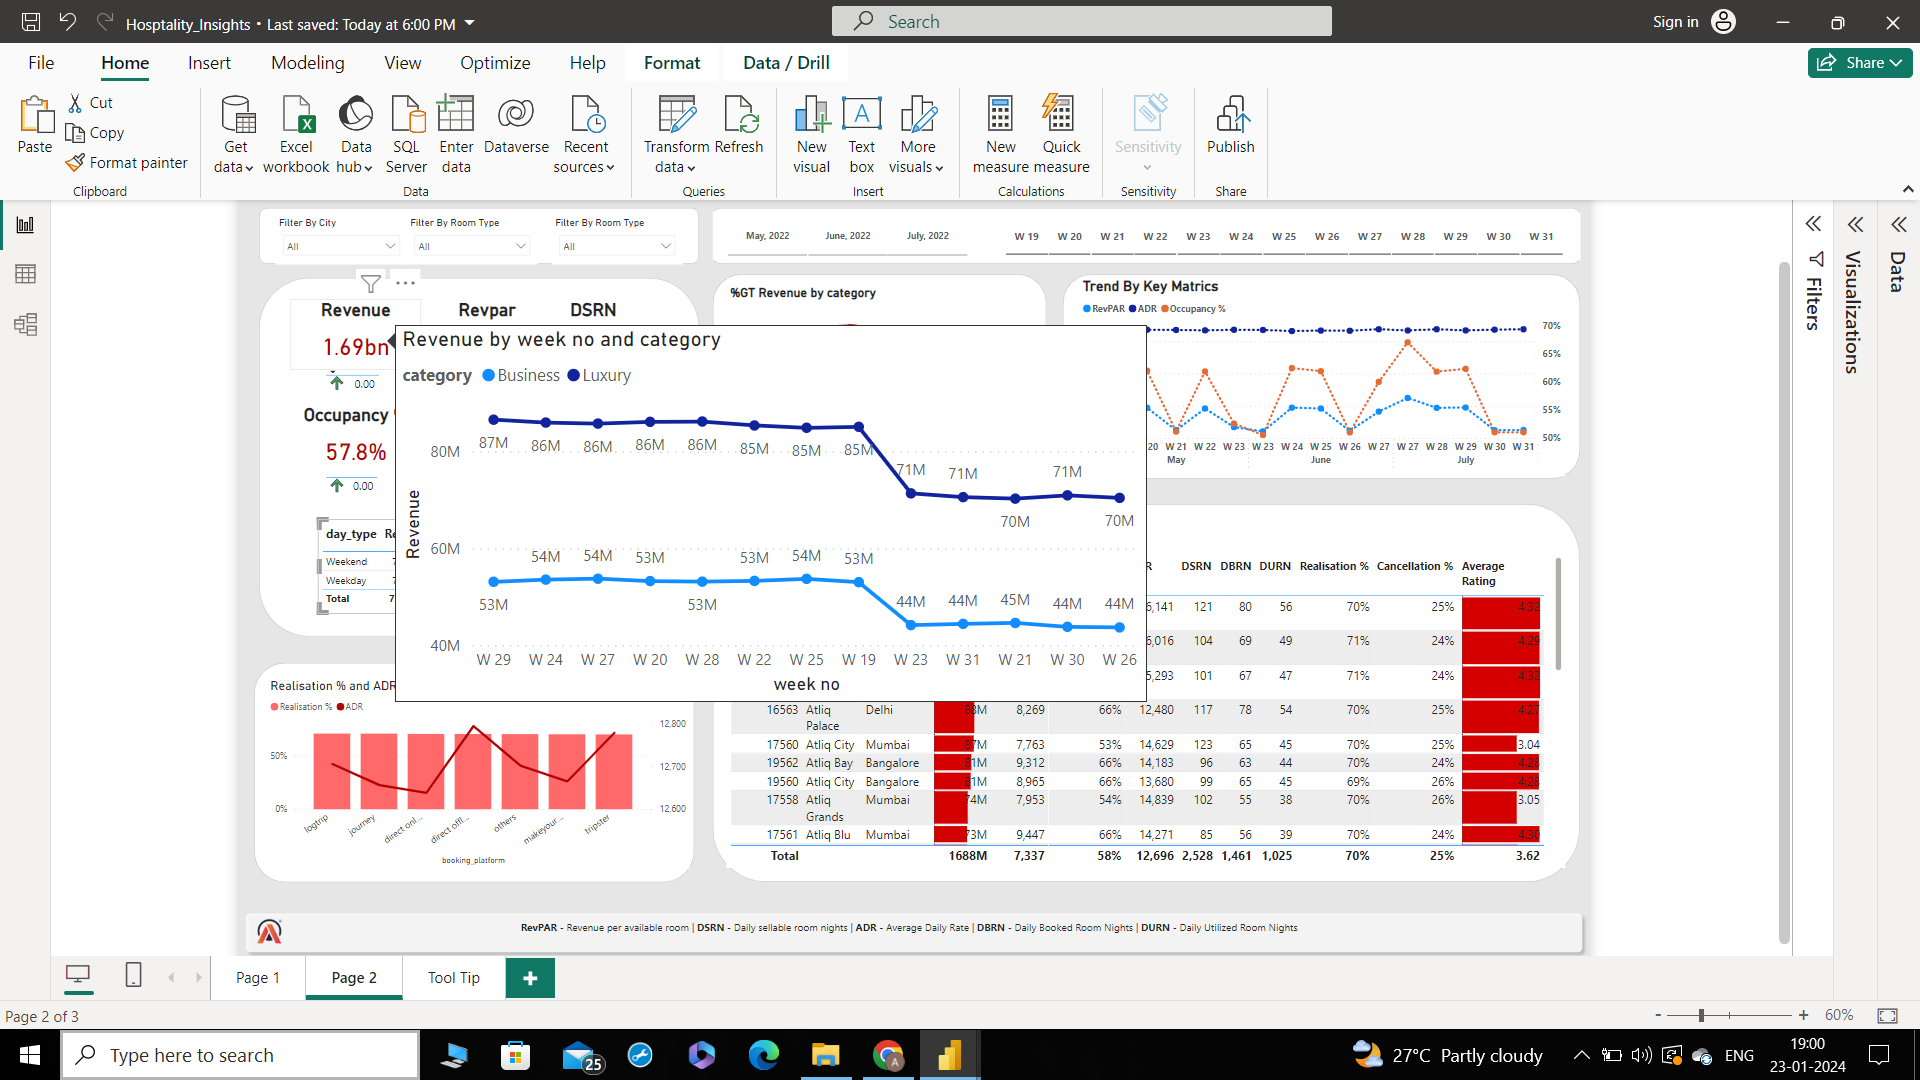

This screenshot's page, from the dashboard's own definition file:
{"tool":"powerbi","page":{"name":"Page 2","canvas":[1800,1100],"ordinal":1},"visuals":[{"type":"shape","box":[0,1016,1800,70],"z":0},{"type":"shape","box":[20,691.4,587.1,292.9],"z":1000},{"type":"shape","box":[632,480,1156,504],"z":2000},{"type":"shape","box":[1098.3,173.3,690,273.3],"z":3000},{"type":"shape","box":[631.7,173.3,445,273.3],"z":4000},{"type":"shape","box":[631.7,85,1156.7,75],"z":5000},{"type":"shape","box":[27.1,178.6,587.1,478.6],"z":6000},{"type":"shape","box":[26.7,85,586.7,75],"z":7000},{"type":"tableEx","title":"Property By Key Metrics","fields":{"Values":["dim_hotels.property_id","dim_hotels.property_name","dim_hotels.city","key_measures (2).Revenue","key_measures (2).RevPAR","key_measures (2).Occupancy %","key_measures (2).ADR","key_measures (2).DSRN","key_measures (2).DBRN","key_measures (2).DURN","key_measures (2).Realisation %","key_measures (2).Cancellation %"]},"box":[650,515.7,1118.6,450],"z":8000},{"type":"slicer","title":"Filter By City","fields":{"Values":["dim_hotels.city"]},"box":[48,96,176,64],"z":9000},{"type":"slicer","title":"Filter By Room Type","fields":{"Values":["dim_rooms.room_class"]},"box":[417,96,175,64],"z":10000},{"type":"slicer","fields":{"Values":["dim_date.mmm yy"]},"box":[631.7,90,358.3,65],"z":11000},{"type":"slicer","fields":{"Values":["dim_date.week no"]},"box":[996.7,91.7,791.7,63.3],"z":12000},{"type":"tableEx","fields":{"Values":["key_measures (2).\"Revenue WoW change %"]},"box":[110.8,281.5,88.5,57.7],"z":13000},{"type":"donutChart","fields":{"Category":["dim_hotels.category"],"Y":["key_measures (2).Revenue"]},"box":[650,188.3,405,241.7],"z":14000},{"type":"lineStackedColumnComboChart","fields":{"Category":["fact_bookings.booking_platform"],"Y":["key_measures (2).Realisation %"],"Y2":["key_measures (2).ADR"]},"box":[37.1,711.4,564.3,254.3],"z":15000},{"type":"lineChart","title":"Trend By Key Matrics","fields":{"Category":["dim_date.mmm yy.Variation.Date Hierarchy.Month","dim_date.week no"],"Y2":["key_measures (2).Occupancy %"],"Y":["key_measures (2).RevPAR","key_measures (2).ADR"]},"box":[1120,178.3,648.3,265],"z":16000},{"type":"tableEx","fields":{"Values":["dim_date.day_type","key_measures (2).RevPAR","key_measures (2).Occupancy %","key_measures (2).ADR","key_measures (2).Realisation %"]},"box":[105,500,455,126.7],"z":17000},{"type":"slicer","title":"Filter By Room Type","fields":{"Values":["dim_rooms.room_class"]},"box":[224,96,175,64],"z":18000},{"type":"image","box":[0,1028,81.3,42.7],"z":20000},{"type":"textbox","box":[345,1029.6,1093.6,39],"z":21000},{"type":"tableEx","fields":{"Values":["key_measures (2).\"DSRN WoW change %"]},"box":[426.9,281.5,88.5,56.2],"z":22000},{"type":"tableEx","fields":{"Values":["key_measures (2).\"Revpar WoW change %"]},"box":[287.7,281.5,89.2,55.4],"z":23000},{"type":"card","title":"DSRN","fields":{"Values":["key_measures (2).DSRN"]},"box":[384.3,206.8,175,95],"z":24000},{"type":"card","title":"Revpar","fields":{"Values":["key_measures (2).RevPAR"]},"box":[242.7,206.5,175,95],"z":25000},{"type":"card","title":"Revenue","fields":{"Values":["key_measures (2).Revenue"]},"box":[67.7,206.5,175,95],"z":26000},{"type":"tableEx","fields":{"Values":["key_measures (2).\"Occupancy WoW change %"]},"box":[110.8,417.7,88.5,57.7],"z":27000},{"type":"card","title":"Occupancy %","fields":{"Values":["key_measures (2).Occupancy %"]},"box":[67.7,347.5,175,95],"z":28000},{"type":"tableEx","fields":{"Values":["key_measures (2).\"ADR WoW change %"]},"box":[287.7,417.7,88.5,57.7],"z":29000},{"type":"tableEx","fields":{"Values":["key_measures (2).\"Revenue WoW change %"]},"box":[460,418.5,88.5,57.7],"z":30000},{"type":"card","title":"ADR","fields":{"Values":["key_measures (2).ADR"]},"box":[242.7,348.5,175,95],"z":31000},{"type":"card","title":"Realisation","fields":{"Values":["key_measures (2).Realisation %"]},"box":[417.7,347.5,175,95],"z":31500}]}

Visuals, with their boxes on the page's 1800x1100 design canvas (x1, y1, x2, y2). These are canvas units, not pixel positions in the 1920x1080 screenshot, which may show the page scaled, cropped or inside an application window:
shape: x1=0, y1=1016, x2=1800, y2=1086
shape: x1=20, y1=691, x2=607, y2=984
shape: x1=632, y1=480, x2=1788, y2=984
shape: x1=1098, y1=173, x2=1788, y2=447
shape: x1=632, y1=173, x2=1077, y2=447
shape: x1=632, y1=85, x2=1788, y2=160
shape: x1=27, y1=179, x2=614, y2=657
shape: x1=27, y1=85, x2=613, y2=160
"Property By Key Metrics" tableEx: x1=650, y1=516, x2=1769, y2=966
"Filter By City" slicer: x1=48, y1=96, x2=224, y2=160
"Filter By Room Type" slicer: x1=417, y1=96, x2=592, y2=160
slicer - dim_date.mmm yy: x1=632, y1=90, x2=990, y2=155
slicer - dim_date.week no: x1=997, y1=92, x2=1788, y2=155
tableEx - key_measures (2)."Revenue WoW change %: x1=111, y1=282, x2=199, y2=339
donutChart - dim_hotels.category x key_measures (2).Revenue: x1=650, y1=188, x2=1055, y2=430
lineStackedColumnComboChart - fact_bookings.booking_platform x key_measures (2).Realisation %: x1=37, y1=711, x2=601, y2=966
"Trend By Key Matrics" lineChart: x1=1120, y1=178, x2=1768, y2=443
tableEx - dim_date.day_type x key_measures (2).RevPAR: x1=105, y1=500, x2=560, y2=627
"Filter By Room Type" slicer: x1=224, y1=96, x2=399, y2=160
image: x1=0, y1=1028, x2=81, y2=1071
textbox: x1=345, y1=1030, x2=1439, y2=1069
tableEx - key_measures (2)."DSRN WoW change %: x1=427, y1=282, x2=515, y2=338
tableEx - key_measures (2)."Revpar WoW change %: x1=288, y1=282, x2=377, y2=337
"DSRN" card: x1=384, y1=207, x2=559, y2=302
"Revpar" card: x1=243, y1=206, x2=418, y2=302
"Revenue" card: x1=68, y1=206, x2=243, y2=302
tableEx - key_measures (2)."Occupancy WoW change %: x1=111, y1=418, x2=199, y2=475
"Occupancy %" card: x1=68, y1=348, x2=243, y2=442
tableEx - key_measures (2)."ADR WoW change %: x1=288, y1=418, x2=376, y2=475
tableEx - key_measures (2)."Revenue WoW change %: x1=460, y1=418, x2=548, y2=476
"ADR" card: x1=243, y1=348, x2=418, y2=444
"Realisation" card: x1=418, y1=348, x2=593, y2=442
